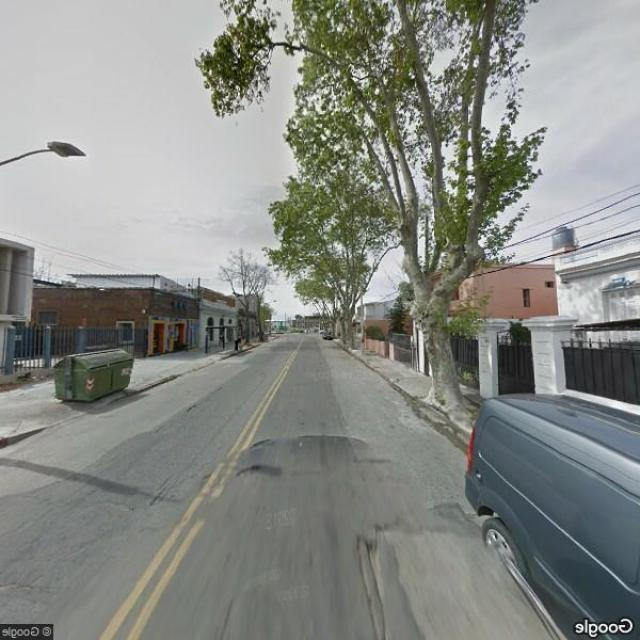garbage container: (47, 339, 143, 413)
